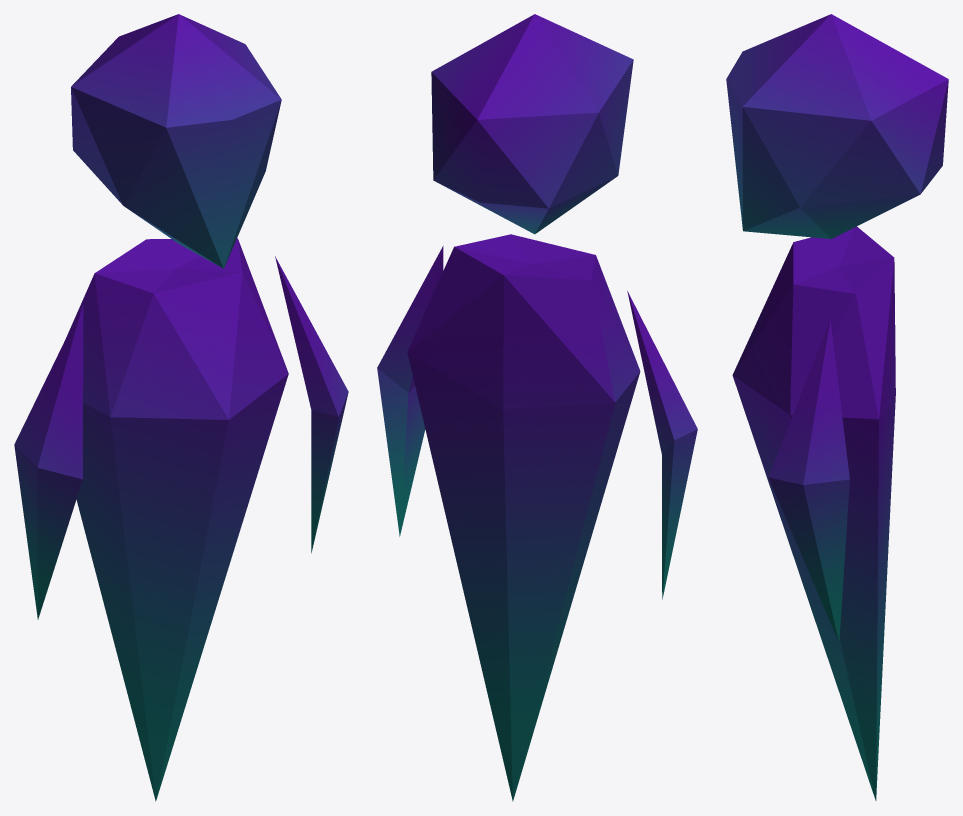
File: LankyLoad.fbx
The picture shows the model from 3 angles, left to right: view 1: azimuth 30°, elevation 25°; view 2: azimuth 150°, elevation 25°; view 3: azimuth 270°, elevation 25°; orthographic projection. The views are drawn at different scales.
Visible parts, largest first — view 1: Icosphere.001; view 2: Icosphere.001; view 3: Icosphere.001.
Boxes of the visible parts, box(x1,y1,x2,y2) form: Icosphere.001: box(14, 14, 348, 801); Icosphere.001: box(377, 14, 697, 801); Icosphere.001: box(726, 14, 948, 800).
Size of the model in its own units: 0.951 by 2.35 by 0.6014.
